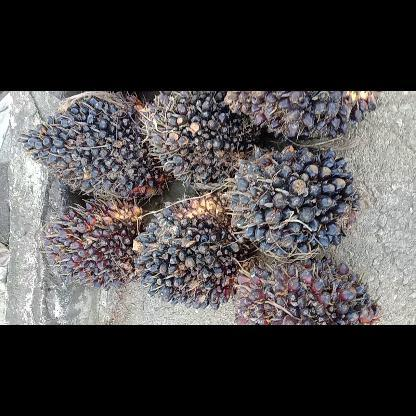TBS mentah: (12, 91, 176, 199), (224, 142, 362, 262), (131, 190, 259, 310), (135, 91, 263, 189), (233, 249, 384, 324), (41, 193, 146, 289)
